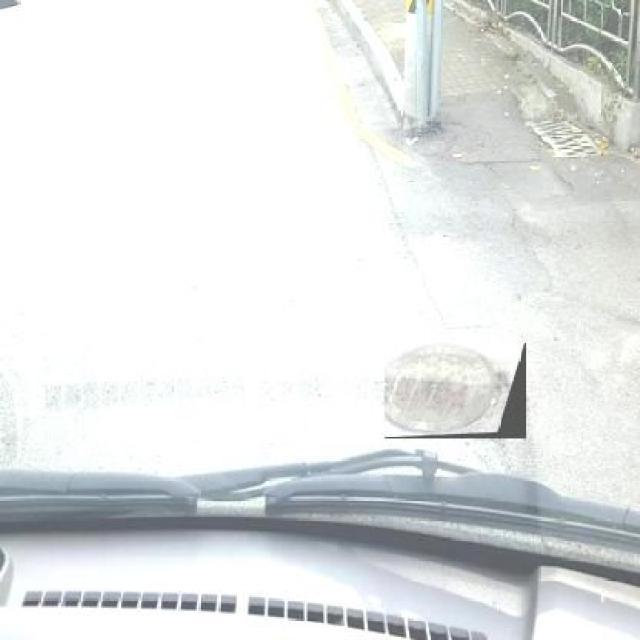Manhole: (384, 343, 526, 439), (512, 96, 620, 171)
